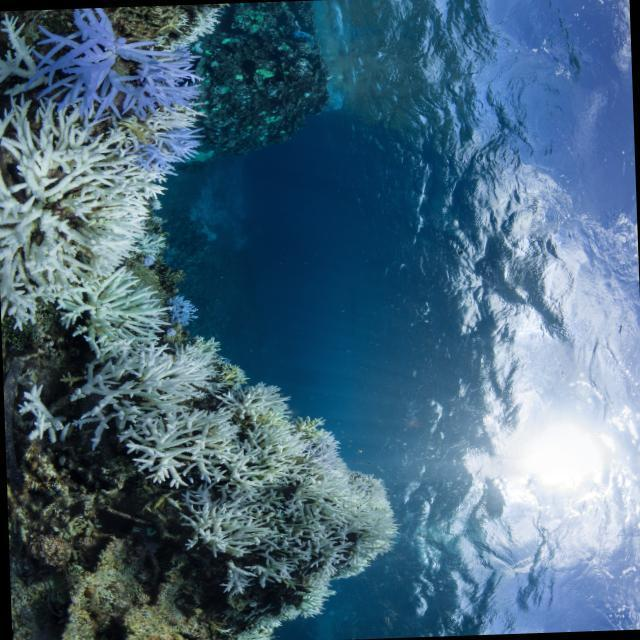Bleached Coral: (205, 398, 410, 615), (0, 105, 161, 310), (104, 342, 253, 486), (61, 262, 203, 347)
Dead Coral: (87, 485, 180, 544), (0, 12, 33, 93)
